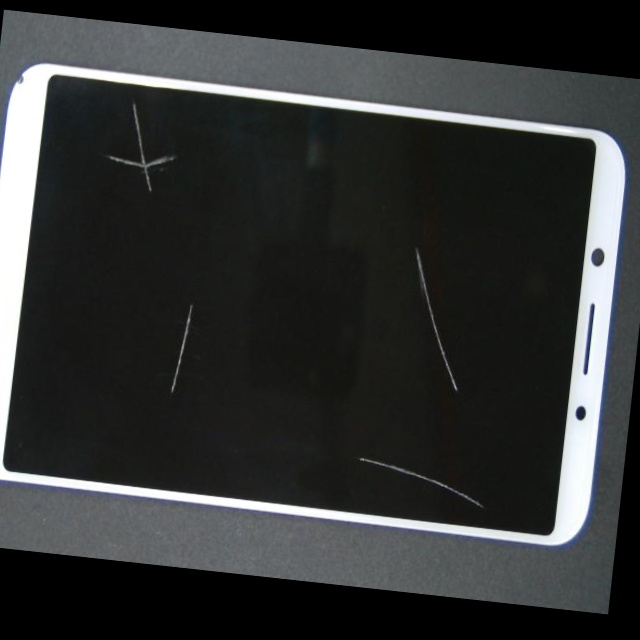scratch: (300, 296, 639, 614), (245, 286, 639, 501), (91, 144, 331, 426), (44, 81, 234, 284)
